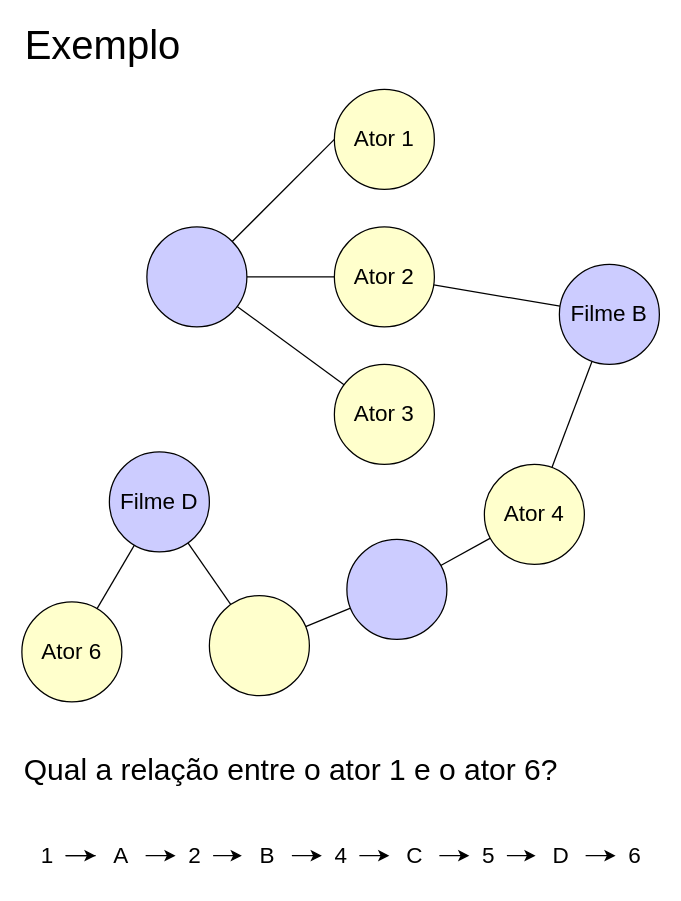
The diagram is 681 pixels wide and 901 high, and some of its shapes have lost their labels. The centre of each missing label's shape, as x and y in pixels:
"Ator 5" belongs at point (258, 645).
"Filme A" belongs at point (196, 276).
"Filme C" belongs at point (396, 588).
